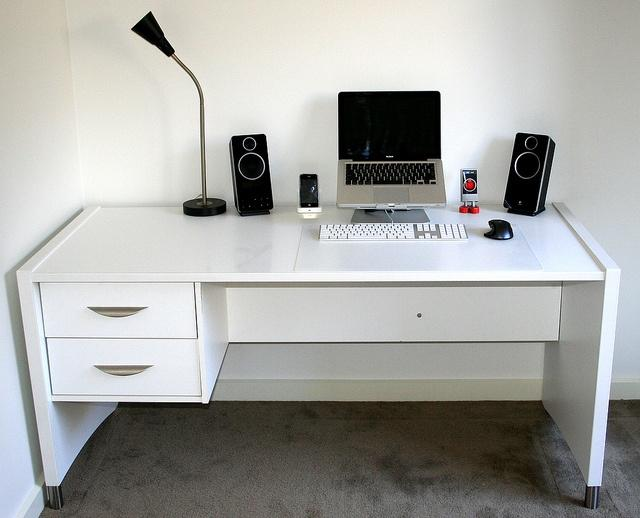Meja: (13, 202, 622, 509)
